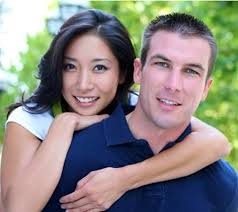asian_female: (45, 4, 133, 121)
